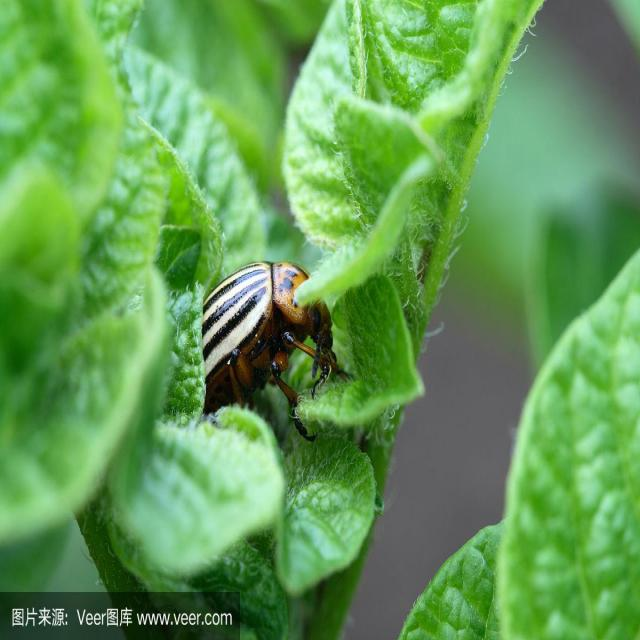ShuCaiHuaBanChong-Grown-: (164, 245, 360, 430)
